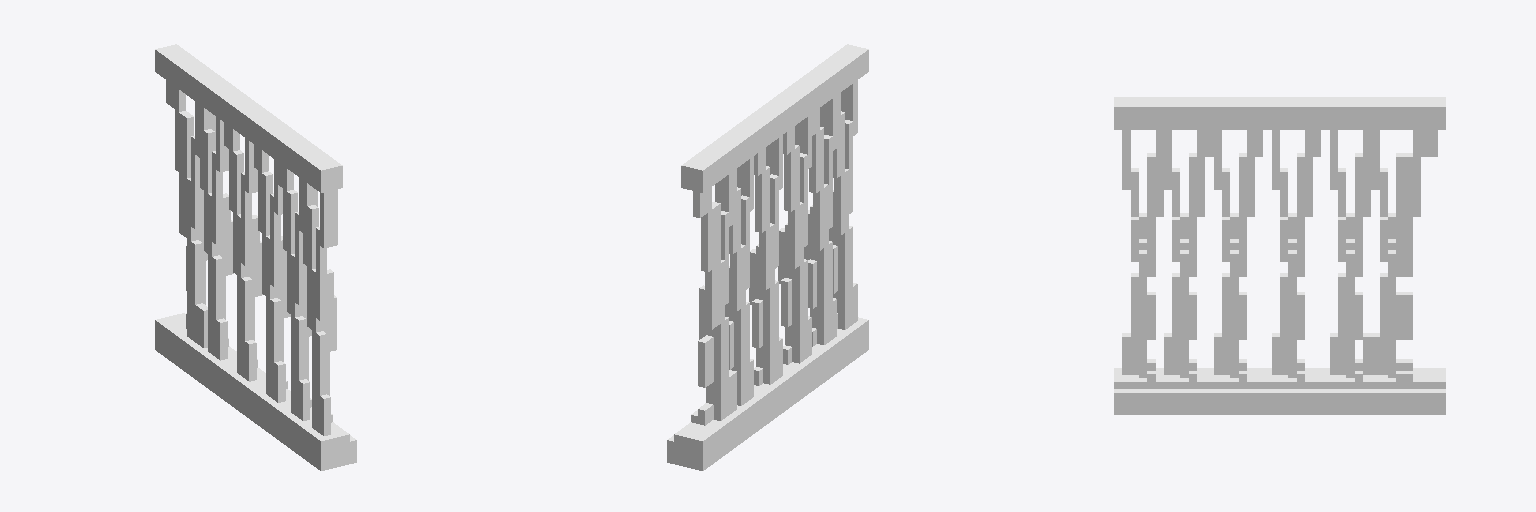
The model's file is lazwall_bamboo_5_40_40.obj.
3 views of the same model, side by side, from view 1: azimuth 30°, elevation 25°; view 2: azimuth 150°, elevation 25°; view 3: azimuth 270°, elevation 25° (orthographic).
Parts seen in each view (by area): view 1: object 1; view 2: object 1; view 3: object 1.
Part boxes in pixels (bbox=[...]): object 1: bbox=[155, 44, 356, 470]; object 1: bbox=[667, 44, 868, 470]; object 1: bbox=[1114, 97, 1445, 414].
Bounding box in the file's own units: 0.5 × 4 × 4.